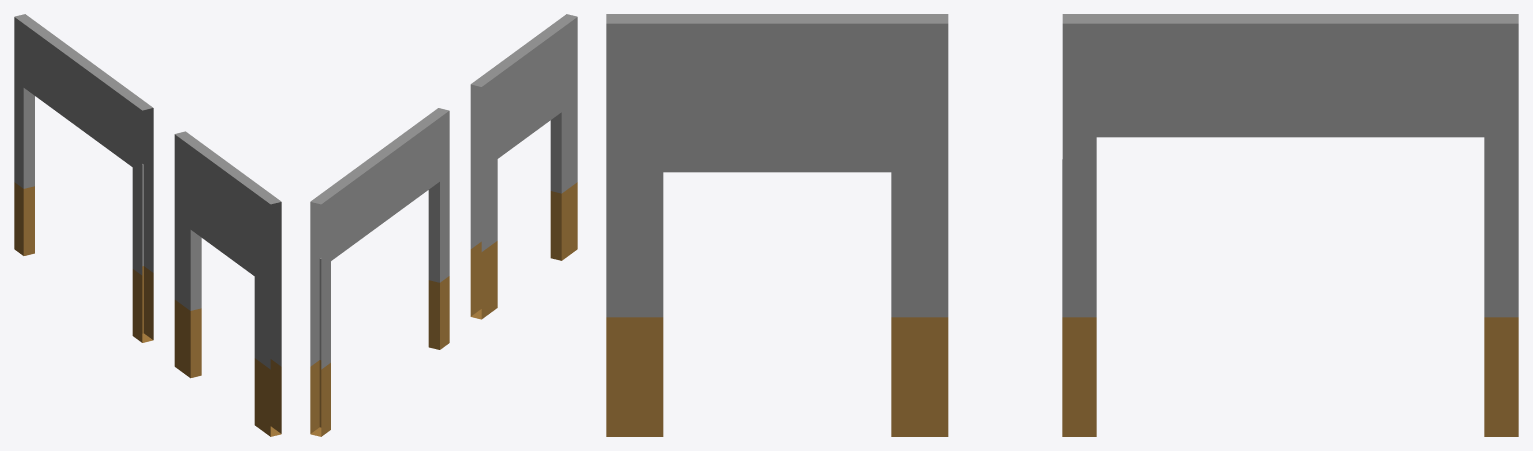
File: SM_WallDoor_St1_BLOKING.fbx
3 renders of one model, left to right at view 1: azimuth 30°, elevation 25°; view 2: azimuth 150°, elevation 25°; view 3: azimuth 270°, elevation 25°, orthographic. The views are drawn at different scales.
Parts seen in each view (by area): view 1: SM_WallDoor_3x4, SM_WallDoor_4x4; view 2: SM_WallDoor_3x4, SM_WallDoor_4x4; view 3: SM_WallDoor_3x4, SM_WallDoor_4x4.
Boxes of the visible parts, x1,y1,x2,y2 form: SM_WallDoor_3x4: [174, 131, 281, 436]; SM_WallDoor_4x4: [14, 14, 153, 342]; SM_WallDoor_3x4: [470, 14, 577, 319]; SM_WallDoor_4x4: [310, 108, 449, 436]; SM_WallDoor_3x4: [606, 14, 948, 436]; SM_WallDoor_4x4: [1062, 14, 1518, 436].
Size of the model in its own units: 20 by 400 by 800.
